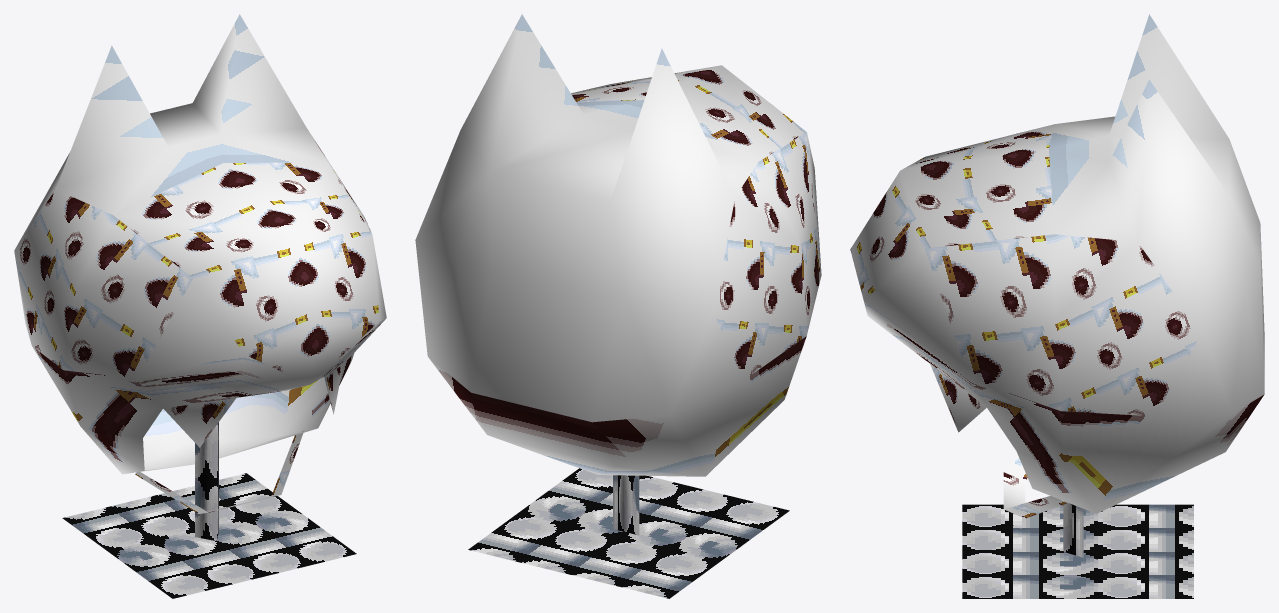
File: 2919head072_c.gltf
3 renders of one model, left to right at view 1: azimuth 30°, elevation 25°; view 2: azimuth 150°, elevation 25°; view 3: azimuth 270°, elevation 25°, orthographic. The views are drawn at different scales.
Parts seen in each view (by area): view 1: 2919head072_c; view 2: 2919head072_c; view 3: 2919head072_c.
Boxes of the visible parts, x1=… form: 2919head072_c: x1=14, y1=14, x2=386, y2=598; 2919head072_c: x1=415, y1=14, x2=821, y2=598; 2919head072_c: x1=850, y1=14, x2=1264, y2=598.
Size of the model in its own units: 0.7749 by 1.16 by 0.8584.
2 materials, 2 textured.
